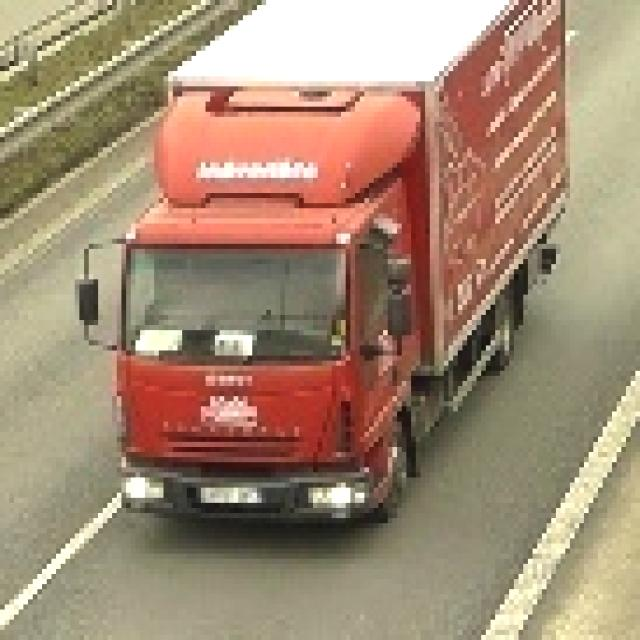truck: (76, 1, 562, 524)
